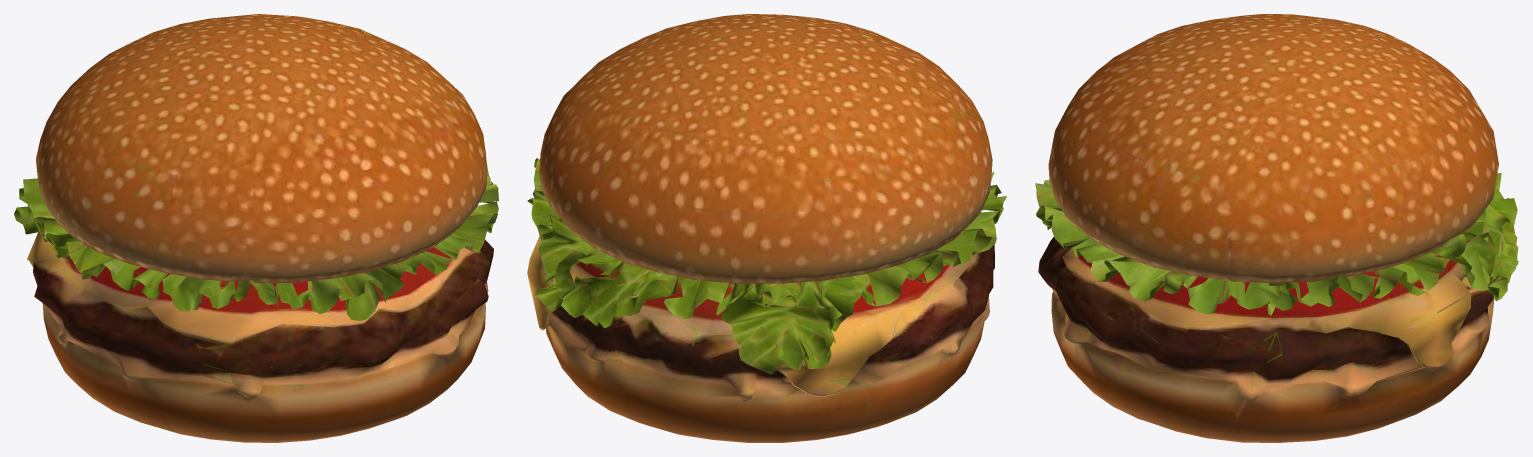
File: prop_panino.glb
The picture shows the model from 3 angles, left to right: view 1: azimuth 30°, elevation 25°; view 2: azimuth 150°, elevation 25°; view 3: azimuth 270°, elevation 25°; orthographic projection.
Bounding box in the file's own units: 0.94 × 0.7066 × 0.9497.
1 material, 1 textured.
